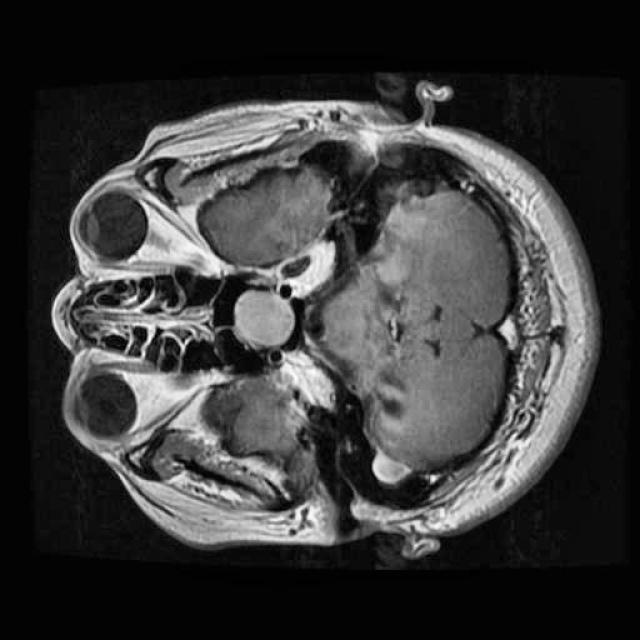Tumor: (218, 276, 310, 361)
